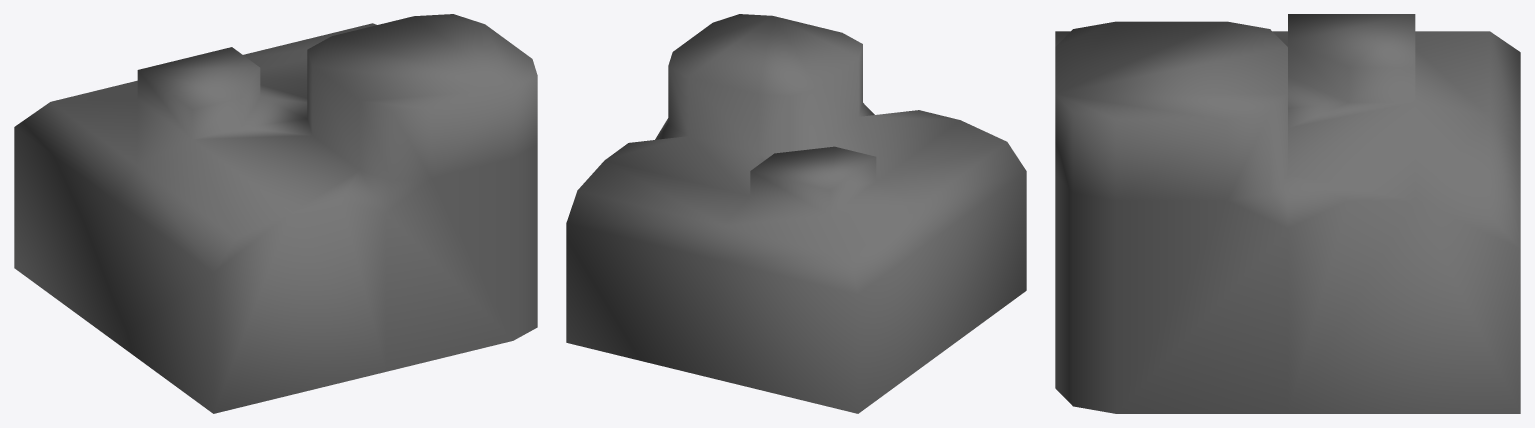
Rendered from rock_04.fbx.
3 views of the same model, side by side, from view 1: azimuth 30°, elevation 25°; view 2: azimuth 150°, elevation 25°; view 3: azimuth 270°, elevation 25° (orthographic). The views are drawn at different scales.
Visible parts, largest first — view 1: rock_04; view 2: rock_04; view 3: rock_04.
Part boxes in pixels (x1,y1,x2,y2): rock_04: [14, 14, 537, 413]; rock_04: [566, 14, 1026, 413]; rock_04: [1055, 14, 1520, 413].
Size of the model in its own units: 42.69 by 29.75 by 42.69.
